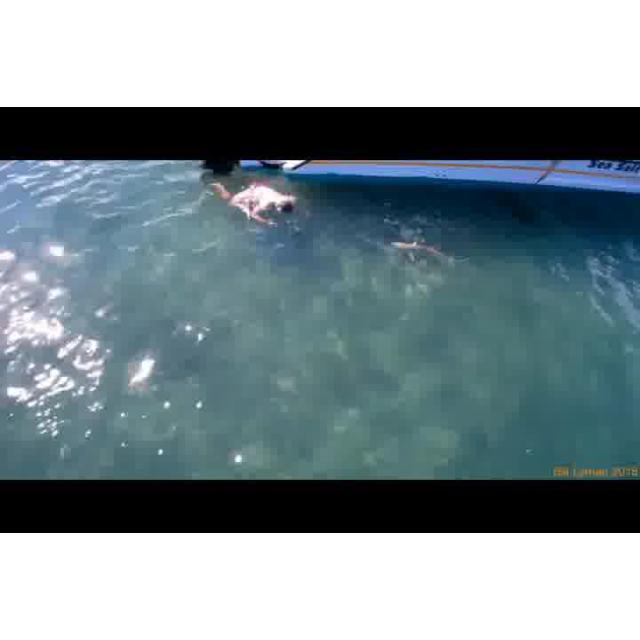human: (211, 181, 296, 228)
